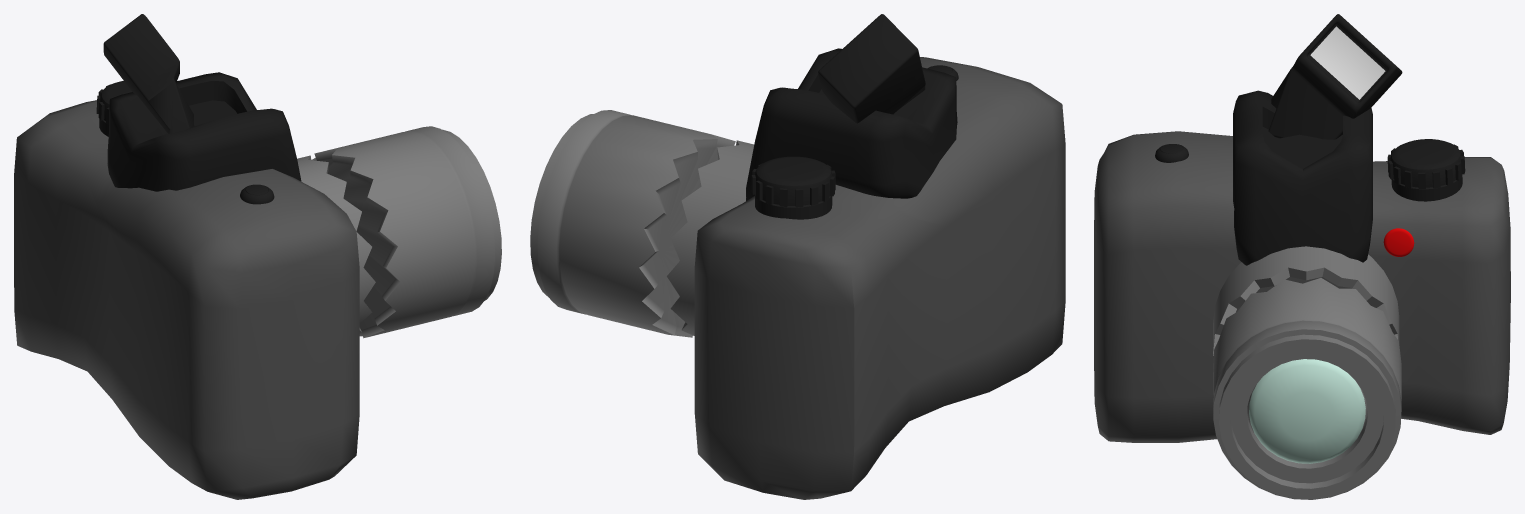
The model's file is camara de fotos rota.fbx.
3 renders of one model, left to right at view 1: azimuth 30°, elevation 25°; view 2: azimuth 150°, elevation 25°; view 3: azimuth 270°, elevation 25°, orthographic. The views are drawn at different scales.
Parts seen in each view (by area): view 1: Cube.001, Cube.004, Cube.002; view 2: Cube.001, Cube.004, Cube.002; view 3: Cube.001, Cube.004, Cube.002.
Boxes of the visible parts, left/top/right/bottom form: Cube.001: left=14, top=14, right=375, bottom=499; Cube.004: left=311, top=126, right=501, bottom=338; Cube.002: left=96, top=81, right=131, bottom=136; Cube.001: left=667, top=14, right=1065, bottom=499; Cube.004: left=530, top=110, right=735, bottom=337; Cube.002: left=751, top=156, right=835, bottom=219; Cube.001: left=1094, top=14, right=1510, bottom=442; Cube.004: left=1213, top=278, right=1401, bottom=499; Cube.002: left=1387, top=139, right=1465, bottom=201.
Size of the model in its own units: 4.65 by 4.99 by 4.77.
